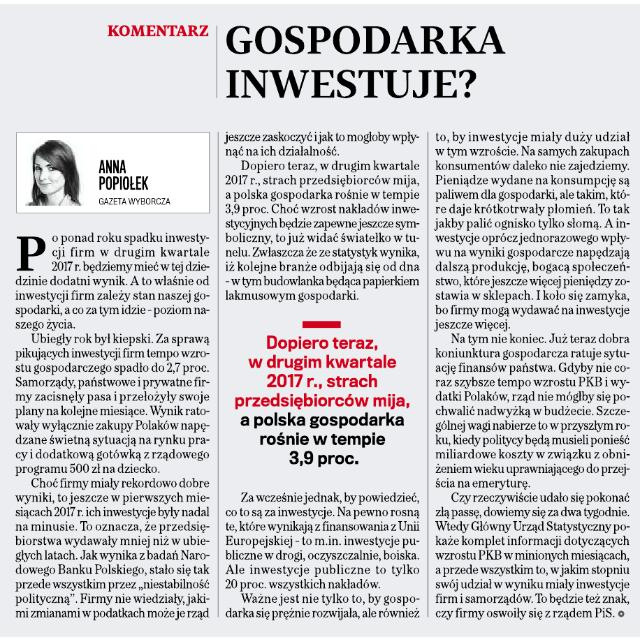author: (94, 154, 158, 194)
body: (433, 125, 635, 625), (4, 224, 216, 624), (222, 126, 422, 302), (232, 308, 416, 474), (224, 486, 424, 626)
title: (98, 14, 512, 110)
